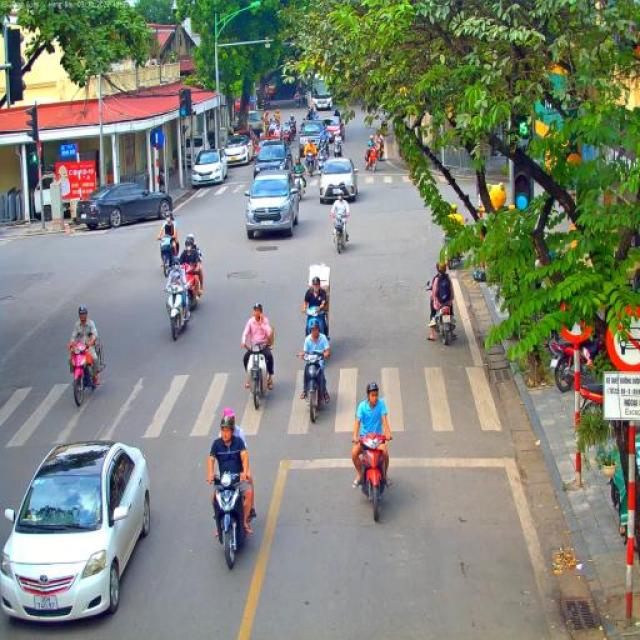bus: (306, 74, 334, 112)
car: (0, 439, 151, 626), (74, 181, 172, 230), (244, 170, 300, 240), (319, 157, 360, 204), (253, 138, 292, 176), (192, 148, 228, 186), (298, 118, 327, 154), (222, 135, 250, 167), (322, 116, 343, 142), (232, 128, 256, 150)
motorcycle: (205, 470, 256, 570), (352, 432, 392, 522), (548, 331, 602, 392), (66, 338, 105, 407), (296, 351, 326, 424), (241, 340, 270, 410), (426, 280, 456, 346), (162, 282, 192, 342), (300, 304, 330, 340), (573, 379, 603, 413), (179, 262, 199, 310), (442, 231, 466, 270), (156, 235, 176, 277), (332, 214, 348, 254), (316, 138, 329, 174), (292, 170, 306, 202), (303, 150, 317, 178), (363, 146, 378, 172), (375, 138, 386, 162), (332, 142, 343, 158), (282, 132, 292, 146), (290, 123, 296, 142), (295, 97, 300, 108)
truck: (27, 176, 69, 222), (246, 110, 264, 139)
